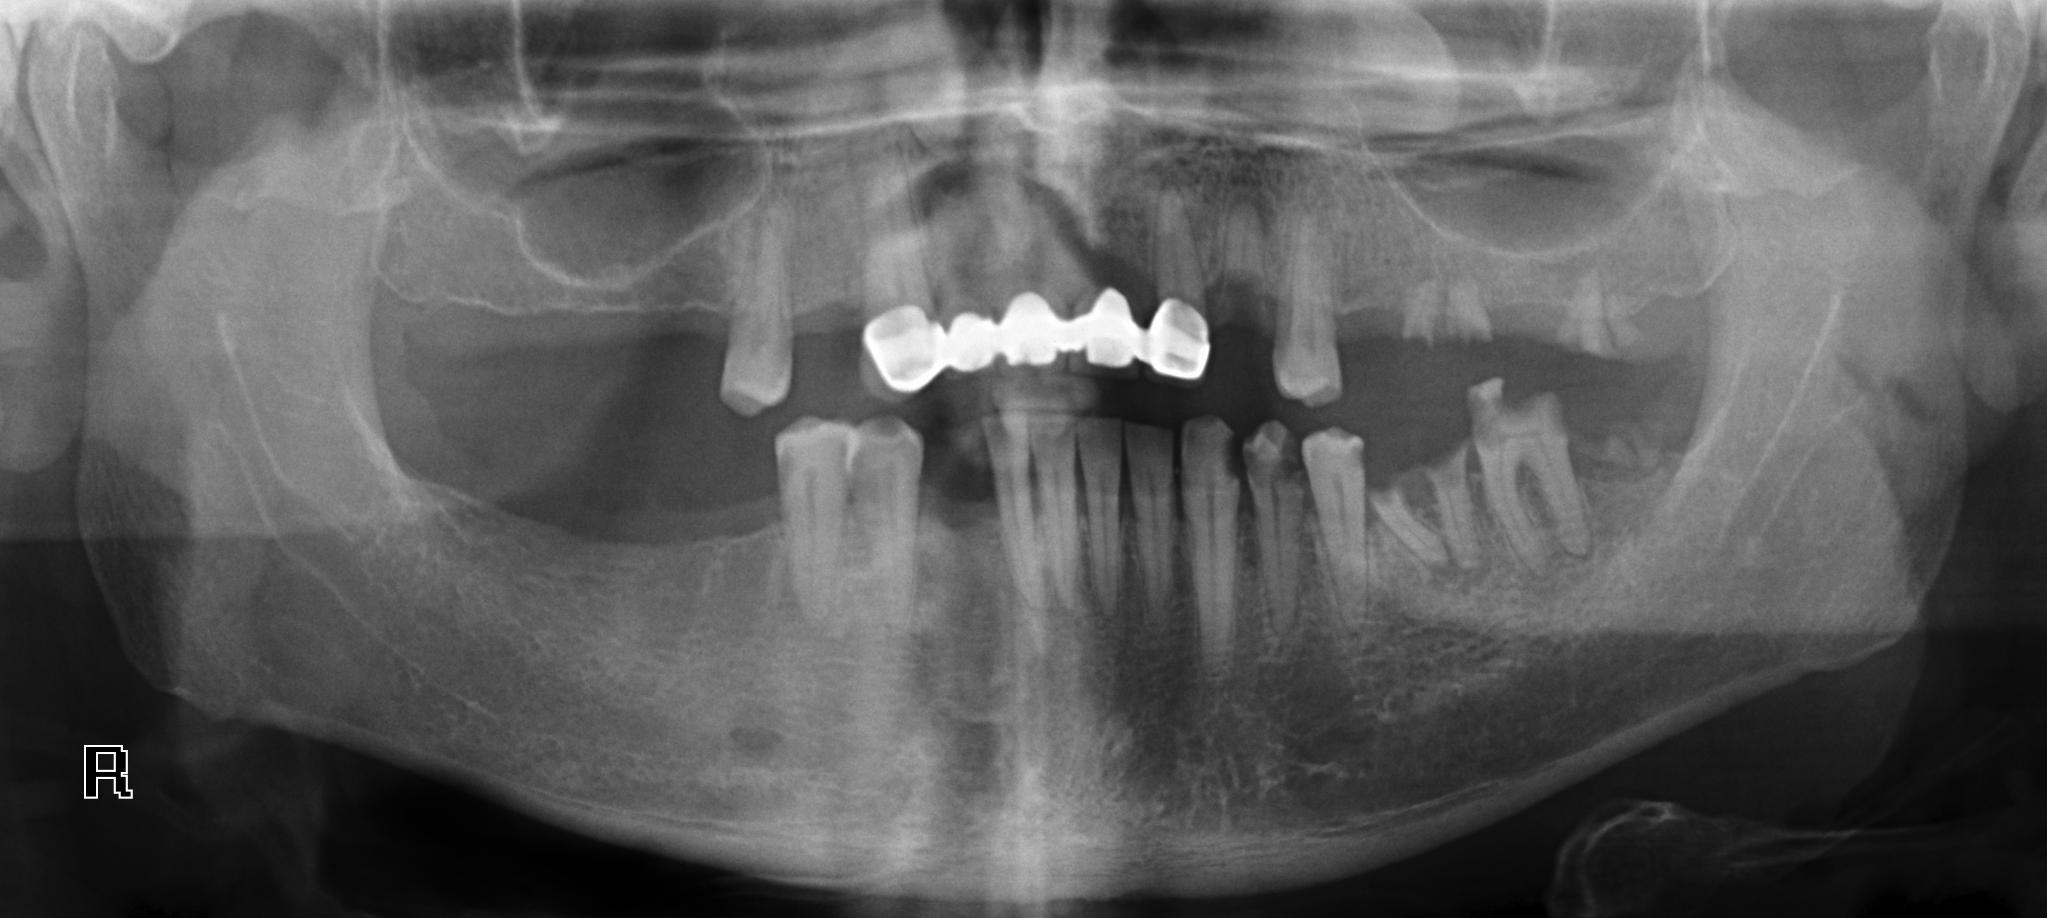Cavity: (1469, 370, 1585, 567), (1364, 418, 1453, 567)
Fillings: (855, 208, 944, 396), (1144, 195, 1217, 384), (1068, 204, 1148, 372), (995, 206, 1070, 375)
